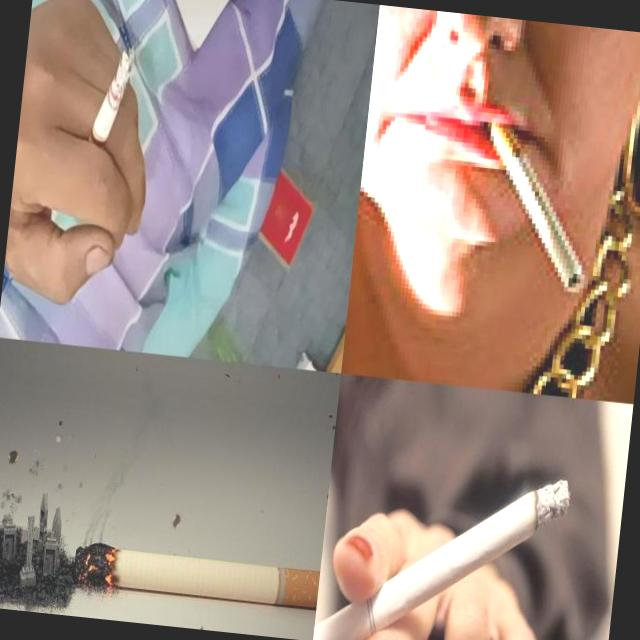smoke: (313, 455, 572, 640), (472, 116, 598, 294), (71, 544, 320, 608), (77, 44, 134, 180)
